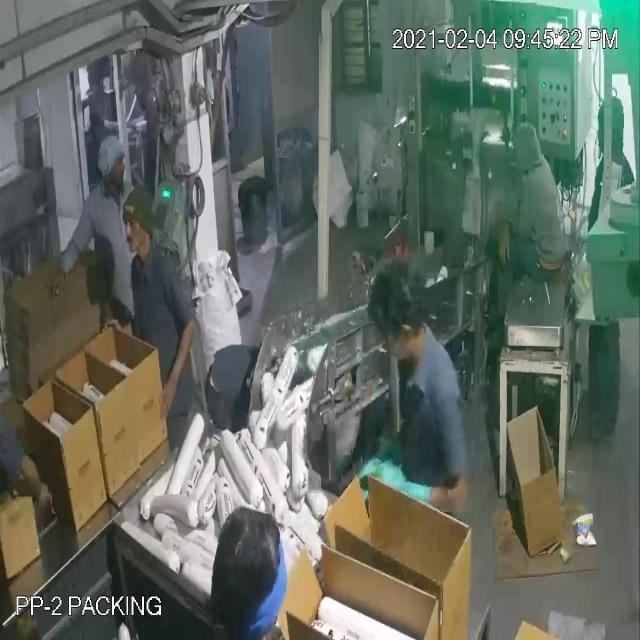No_Gloves: (28, 56, 418, 492)
